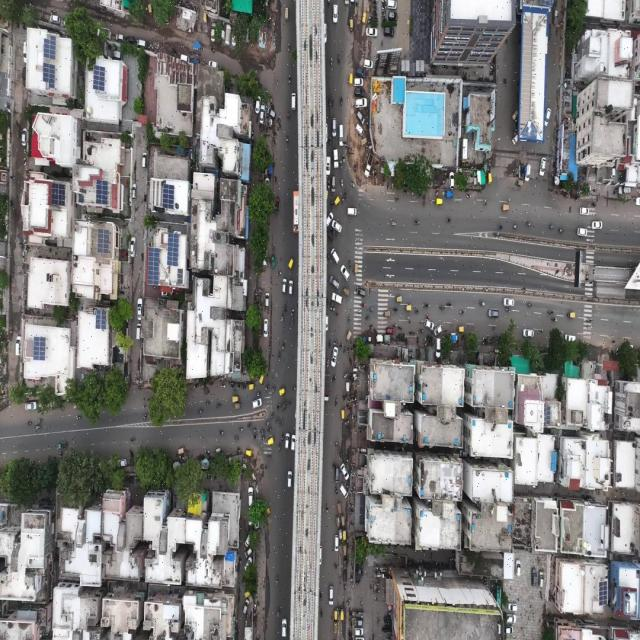3W: (564, 307, 578, 324), (455, 319, 468, 335), (340, 402, 348, 428), (339, 569, 348, 590), (258, 371, 268, 388), (342, 282, 351, 300), (345, 325, 354, 343), (384, 305, 393, 323), (246, 380, 256, 395), (333, 619, 340, 638), (502, 202, 514, 213), (395, 291, 405, 304), (341, 542, 348, 560), (332, 603, 339, 621), (233, 401, 245, 411), (336, 497, 343, 514), (341, 554, 348, 571), (341, 516, 350, 529), (354, 257, 360, 276), (245, 445, 252, 460), (403, 301, 413, 311), (278, 385, 286, 397), (340, 604, 346, 619), (342, 532, 349, 544), (288, 257, 294, 270), (281, 400, 287, 411), (268, 435, 273, 448), (232, 392, 239, 401)
Cars: (329, 170, 339, 196), (20, 37, 30, 63), (20, 121, 30, 147), (48, 11, 63, 28), (485, 305, 501, 320), (291, 89, 300, 115), (331, 114, 340, 140), (210, 19, 218, 48), (246, 485, 256, 508), (330, 2, 340, 25), (330, 288, 343, 305), (590, 216, 603, 233), (339, 120, 346, 151), (340, 457, 349, 481), (530, 561, 538, 588), (338, 481, 348, 502), (520, 324, 535, 338), (206, 56, 221, 70), (562, 330, 575, 346), (353, 122, 365, 139), (15, 330, 22, 358), (329, 273, 342, 288), (340, 263, 350, 282), (129, 234, 136, 261), (330, 344, 338, 367), (281, 617, 289, 640), (514, 556, 522, 579), (355, 283, 368, 297), (354, 111, 367, 125), (353, 85, 366, 99), (365, 26, 379, 39), (546, 104, 553, 130), (540, 153, 547, 179), (135, 38, 149, 51), (331, 245, 340, 265), (140, 152, 150, 170), (130, 179, 138, 201), (332, 218, 342, 235), (244, 531, 254, 548), (503, 619, 513, 636), (505, 612, 518, 625), (288, 432, 296, 453), (352, 625, 366, 637), (579, 205, 591, 219), (383, 26, 395, 40), (388, 9, 400, 23), (114, 30, 126, 44), (122, 33, 136, 45), (179, 51, 190, 66), (263, 312, 269, 339), (286, 278, 295, 296), (324, 20, 330, 47), (264, 288, 271, 311), (326, 154, 333, 177), (331, 150, 341, 166), (281, 271, 287, 297), (110, 46, 122, 59), (285, 470, 292, 492), (354, 98, 368, 109), (364, 56, 373, 73), (502, 298, 517, 308), (22, 62, 28, 87), (333, 464, 340, 485), (269, 253, 278, 269), (347, 207, 359, 219), (325, 211, 333, 229), (353, 615, 365, 627), (576, 225, 588, 237), (508, 600, 518, 614), (425, 317, 435, 331), (435, 335, 441, 358), (259, 107, 265, 130), (225, 25, 231, 48), (244, 548, 253, 563), (385, 0, 400, 9), (511, 133, 520, 148), (252, 399, 262, 412), (333, 532, 338, 558), (539, 564, 544, 590), (449, 170, 455, 191), (255, 95, 262, 113), (25, 400, 38, 409), (325, 313, 330, 336), (243, 597, 249, 616), (352, 76, 363, 86), (266, 106, 277, 116), (138, 296, 142, 323), (243, 561, 252, 573), (328, 584, 333, 605), (435, 322, 442, 337), (385, 324, 393, 336), (284, 431, 289, 450), (135, 322, 140, 340), (118, 456, 128, 465), (189, 54, 199, 63)
LCV: (362, 153, 372, 181), (273, 191, 280, 213), (444, 191, 454, 200)
M2W: (457, 307, 468, 326), (524, 299, 536, 316), (323, 493, 332, 513), (288, 303, 298, 320), (512, 221, 524, 234), (437, 301, 447, 316), (345, 309, 353, 327), (347, 177, 356, 192), (332, 373, 339, 392), (420, 299, 431, 311), (478, 296, 488, 309), (215, 423, 224, 437), (213, 401, 223, 413), (249, 430, 259, 442), (444, 298, 454, 310), (202, 444, 211, 457), (272, 380, 278, 399), (140, 407, 149, 419), (319, 605, 325, 623), (197, 404, 204, 419), (317, 589, 324, 604), (275, 349, 283, 362), (390, 217, 398, 230), (27, 415, 33, 432), (281, 339, 287, 356), (126, 433, 136, 443), (412, 218, 422, 228), (290, 317, 297, 331), (232, 430, 240, 442), (282, 299, 288, 315), (289, 74, 295, 90), (275, 573, 281, 588), (326, 355, 331, 373), (338, 93, 344, 108), (327, 55, 333, 70), (523, 220, 533, 229), (557, 226, 567, 235), (412, 307, 421, 317), (363, 314, 371, 325), (333, 394, 338, 411), (237, 422, 244, 434), (283, 133, 289, 147), (586, 318, 593, 330), (254, 390, 263, 399), (464, 191, 473, 200), (495, 222, 504, 231), (547, 222, 556, 231), (34, 415, 44, 423), (275, 605, 280, 621), (358, 300, 366, 310), (339, 171, 344, 187), (290, 384, 296, 397), (346, 342, 350, 361), (341, 149, 346, 164), (336, 51, 341, 66), (74, 411, 82, 420), (279, 432, 285, 444), (279, 416, 285, 428), (274, 401, 280, 413), (339, 340, 344, 354), (325, 177, 330, 191), (285, 109, 292, 119), (266, 382, 272, 393), (554, 314, 560, 325), (245, 421, 253, 429), (263, 418, 270, 427), (392, 305, 399, 314), (35, 423, 41, 433), (369, 304, 374, 316), (339, 195, 344, 207), (329, 197, 334, 209), (279, 311, 283, 325), (445, 216, 453, 223), (343, 187, 347, 201), (287, 40, 291, 54), (339, 159, 344, 170), (252, 427, 258, 436), (274, 416, 280, 425), (288, 396, 292, 409), (343, 345, 347, 358), (261, 426, 266, 436), (205, 399, 211, 406), (267, 427, 273, 434), (278, 442, 281, 455), (270, 410, 275, 417), (548, 307, 553, 314)
